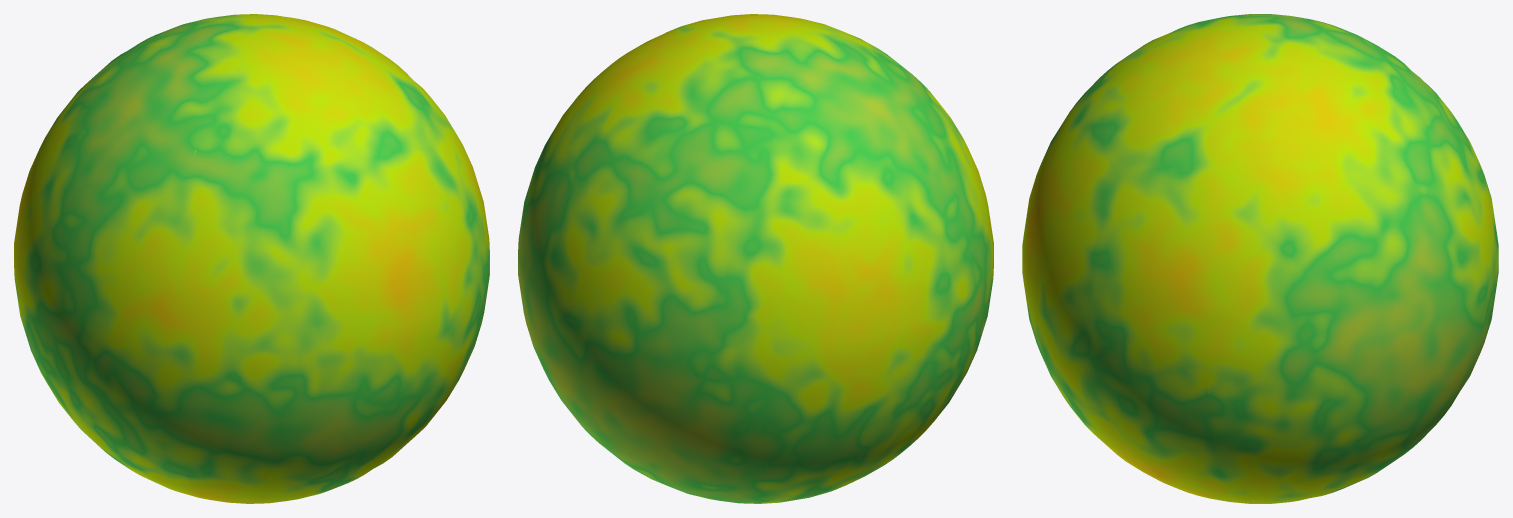
The model's file is planet2.fbx.
The picture shows the model from 3 angles, left to right: view 1: azimuth 30°, elevation 25°; view 2: azimuth 150°, elevation 25°; view 3: azimuth 270°, elevation 25°; orthographic projection.
Visible parts, largest first — view 1: planet2; view 2: planet2; view 3: planet2.
Boxes of the visible parts, x1,y1,x2,y2 form: planet2: [14, 14, 489, 503]; planet2: [518, 14, 993, 503]; planet2: [1022, 14, 1498, 503].
Bounding box in the file's own units: 210 × 218 × 210.
Materials: 1 (1 with a texture image).
